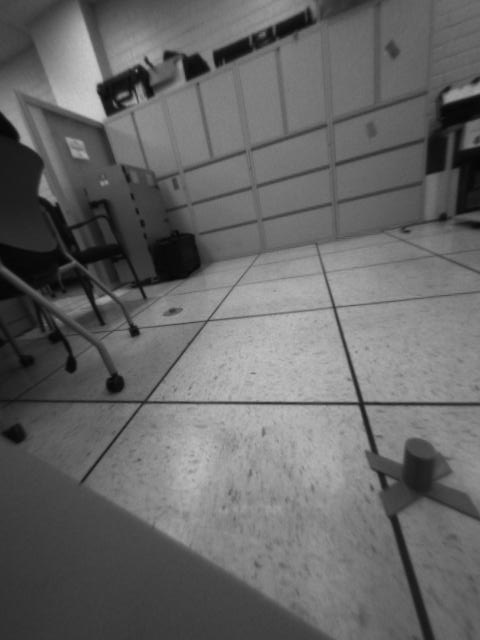X: (361, 436, 480, 524)
